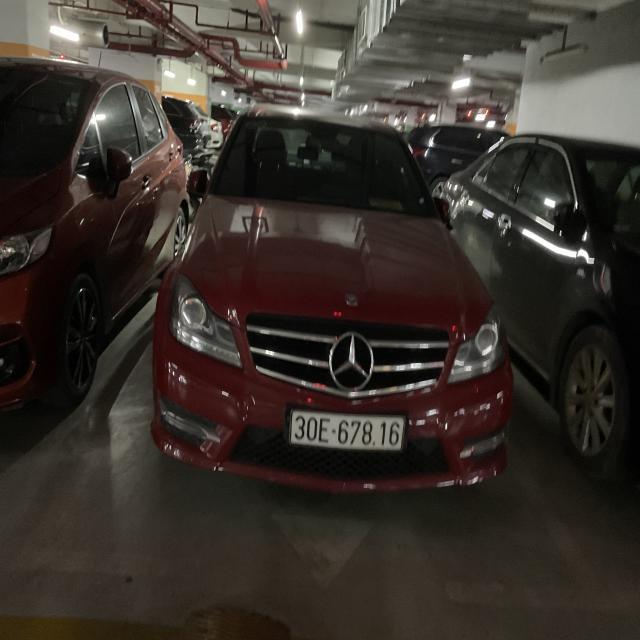license: (285, 407, 408, 452)
